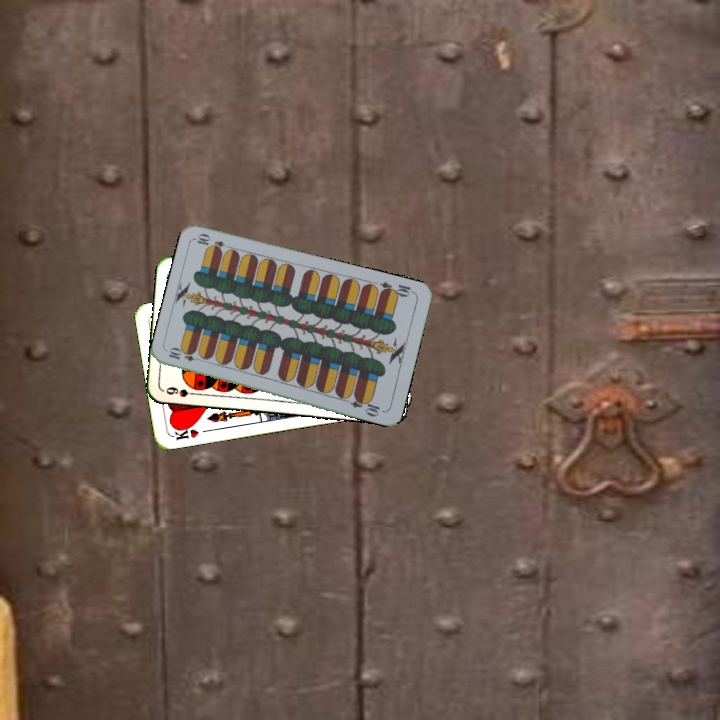E10: (376, 278, 417, 300), (165, 345, 205, 364)
HK: (169, 421, 201, 443)
S9: (162, 383, 202, 400)
